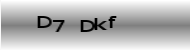7: (51, 18, 66, 33)
D: (36, 15, 53, 30), (79, 19, 95, 33)
f: (108, 15, 117, 30)
k: (93, 17, 107, 31)
